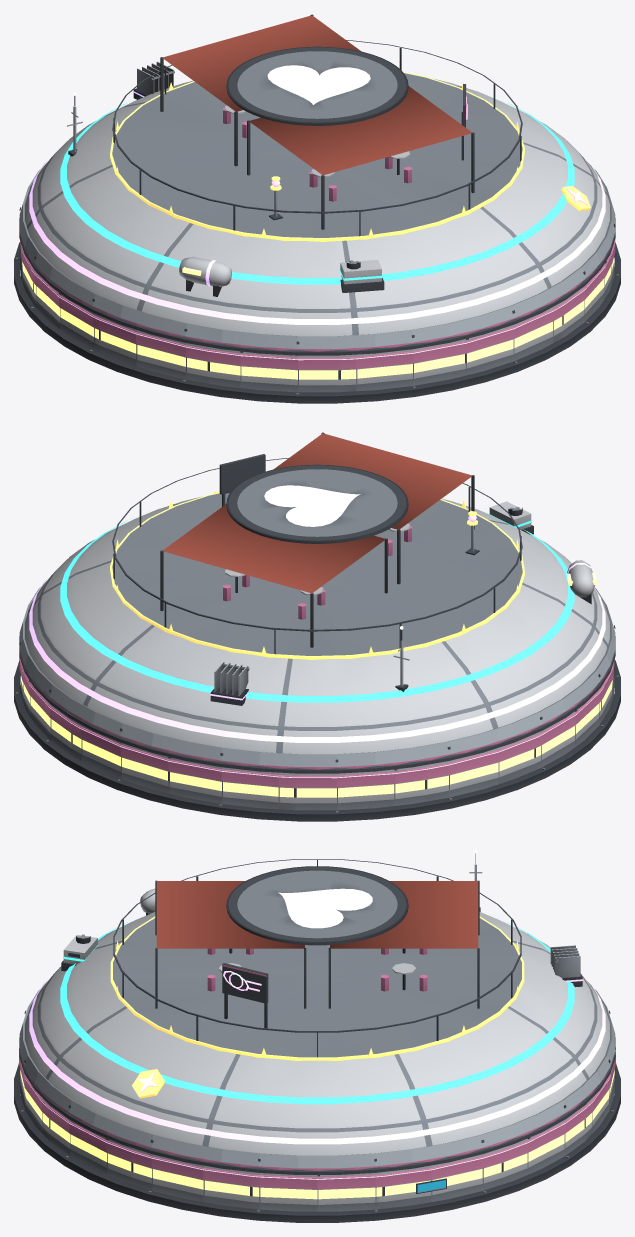
File: cantina_l.glb
3 renders of one model, top to bottom at view 1: azimuth 30°, elevation 25°; view 2: azimuth 150°, elevation 25°; view 3: azimuth 270°, elevation 25°, orthographic.
Visible parts, largest first — view 1: Roof, Base, L3, L5, L4, Wall_21, Wall_20, Wall_22, Wall_19, Wall_23, Wall_18, Wall_24 (+12 smaller); view 2: Roof, Base, L3, L5, L4, Wall_10, Wall_11, Wall_09, Wall_12, Wall_08, Wall_13, Wall_07 (+12 smaller); view 3: Roof, Base, L3, L5, Wall_00, Wall_31, Wall_30, Wall_01, Wall_29, Wall_02, Wall_28, Wall_03 (+18 smaller).
Boxes of the visible parts, x1=… form: Roof: x1=19, y1=14, x2=615, y2=355; Base: x1=14, y1=241, x2=620, y2=403; L3: x1=60, y1=94, x2=574, y2=292; L5: x1=110, y1=72, x2=590, y2=241; L4: x1=133, y1=61, x2=231, y2=296; Wall_21: x1=298, y1=354, x2=356, y2=392; Wall_20: x1=240, y1=350, x2=297, y2=392; Wall_22: x1=356, y1=349, x2=413, y2=391; Wall_19: x1=185, y1=343, x2=240, y2=387; Wall_23: x1=413, y1=339, x2=466, y2=385; Wall_18: x1=135, y1=330, x2=185, y2=379; Wall_24: x1=466, y1=325, x2=514, y2=375; Roof: x1=19, y1=432, x2=615, y2=773; Base: x1=14, y1=659, x2=620, y2=821; L3: x1=60, y1=501, x2=574, y2=702; L5: x1=110, y1=491, x2=524, y2=659; L4: x1=210, y1=560, x2=596, y2=705; Wall_10: x1=278, y1=772, x2=336, y2=810; Wall_11: x1=337, y1=769, x2=394, y2=810; Wall_09: x1=221, y1=767, x2=278, y2=809; Wall_12: x1=394, y1=761, x2=449, y2=805; Wall_08: x1=168, y1=756, x2=221, y2=803; Wall_13: x1=449, y1=748, x2=499, y2=797; Wall_07: x1=120, y1=743, x2=168, y2=793; Roof: x1=19, y1=859, x2=615, y2=1174; Base: x1=14, y1=1063, x2=620, y2=1222; L3: x1=60, y1=916, x2=574, y2=1104; L5: x1=110, y1=916, x2=524, y2=1098; Wall_00: x1=317, y1=1173, x2=375, y2=1211; Wall_31: x1=259, y1=1173, x2=317, y2=1211; Wall_30: x1=203, y1=1165, x2=259, y2=1209; Wall_01: x1=375, y1=1165, x2=431, y2=1209; Wall_29: x1=151, y1=1154, x2=203, y2=1201; Wall_02: x1=431, y1=1154, x2=483, y2=1201; Wall_28: x1=106, y1=1137, x2=152, y2=1190; Wall_03: x1=482, y1=1138, x2=528, y2=1190.
Bounding box in the file's own units: 18.96 × 6.56 × 18.96.
